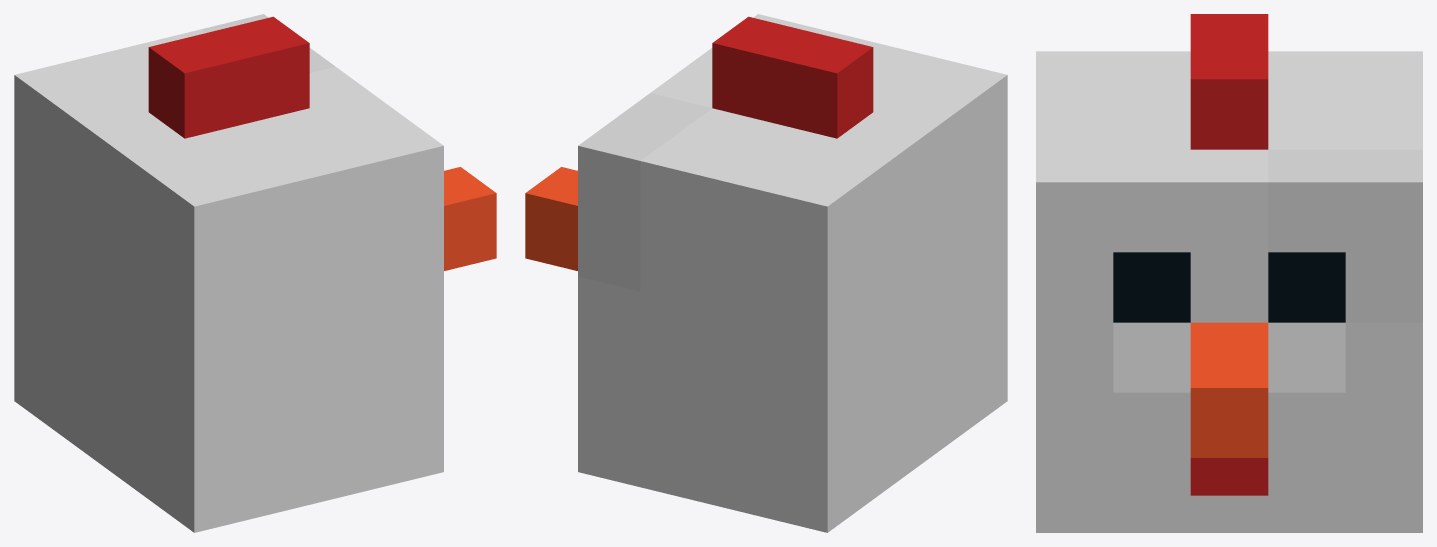
Rendered from Animals-50.obj.
3 renders of one model, left to right at view 1: azimuth 30°, elevation 25°; view 2: azimuth 150°, elevation 25°; view 3: azimuth 270°, elevation 25°, orthographic. The views are drawn at different scales.
Bounding box in the file's own units: 0.6 × 0.6 × 0.5.
1 material, 1 textured.
